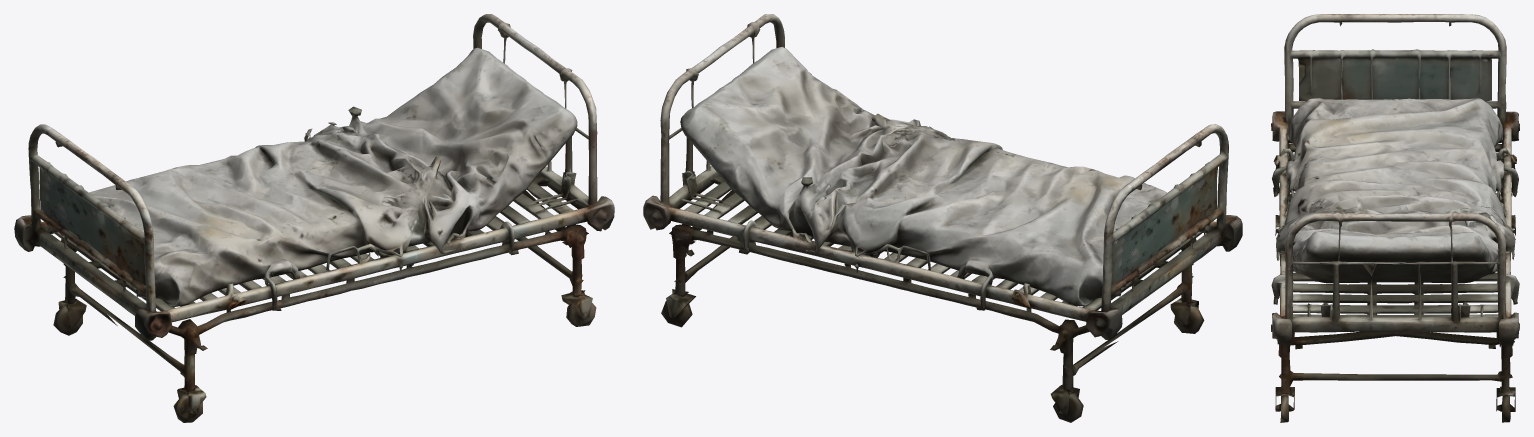
The picture shows the model from 3 angles, left to right: view 1: azimuth 30°, elevation 25°; view 2: azimuth 150°, elevation 25°; view 3: azimuth 270°, elevation 25°; orthographic projection. The views are drawn at different scales.
Visible parts, largest first — view 1: tripo_node_f336c468-967c-4fb4-a115-c3fdf5ba2f5e; view 2: tripo_node_f336c468-967c-4fb4-a115-c3fdf5ba2f5e; view 3: tripo_node_f336c468-967c-4fb4-a115-c3fdf5ba2f5e.
Boxes of the visible parts, x1=… form: tripo_node_f336c468-967c-4fb4-a115-c3fdf5ba2f5e: x1=14, y1=14, x2=614, y2=422; tripo_node_f336c468-967c-4fb4-a115-c3fdf5ba2f5e: x1=643, y1=14, x2=1242, y2=422; tripo_node_f336c468-967c-4fb4-a115-c3fdf5ba2f5e: x1=1271, y1=14, x2=1519, y2=422.
Size of the model in its own units: 0.9999 by 0.4713 by 0.4949.
1 material, 1 textured.
